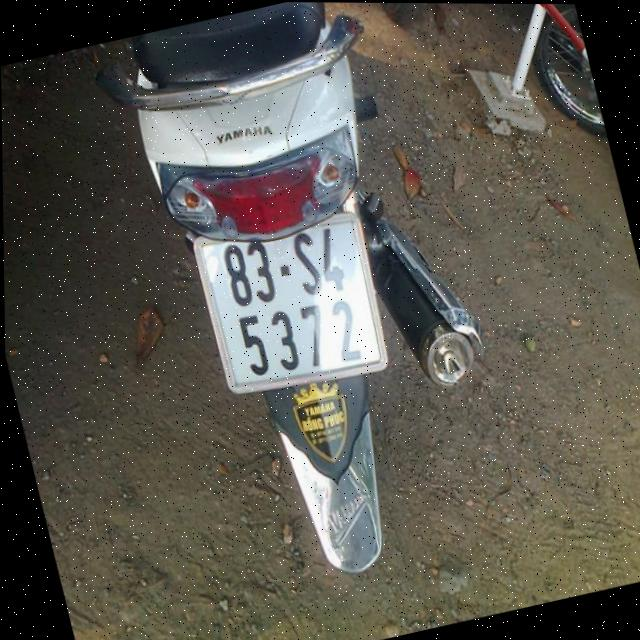motorcycle: (88, 1, 539, 629)
plate: (173, 193, 401, 410)
